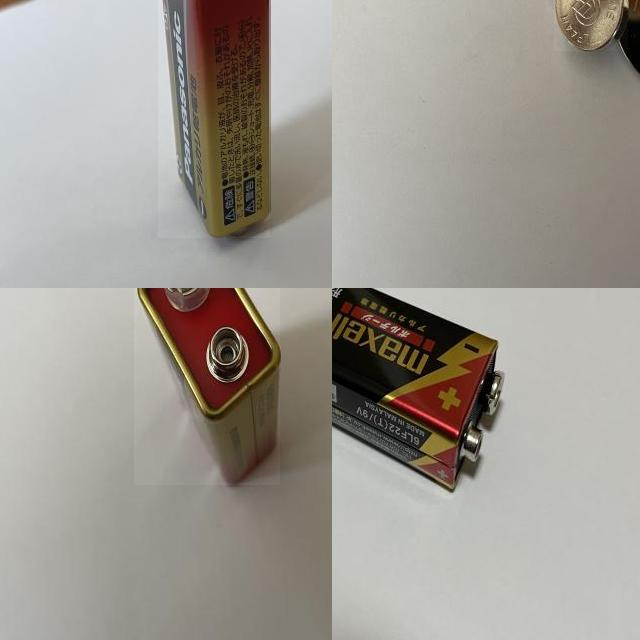9V: (332, 288, 505, 494), (134, 288, 280, 485), (158, 0, 270, 238)
